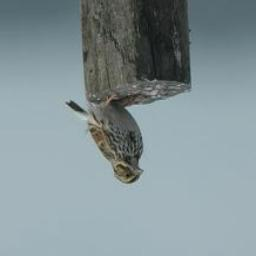Sparrow: (65, 92, 147, 186)
